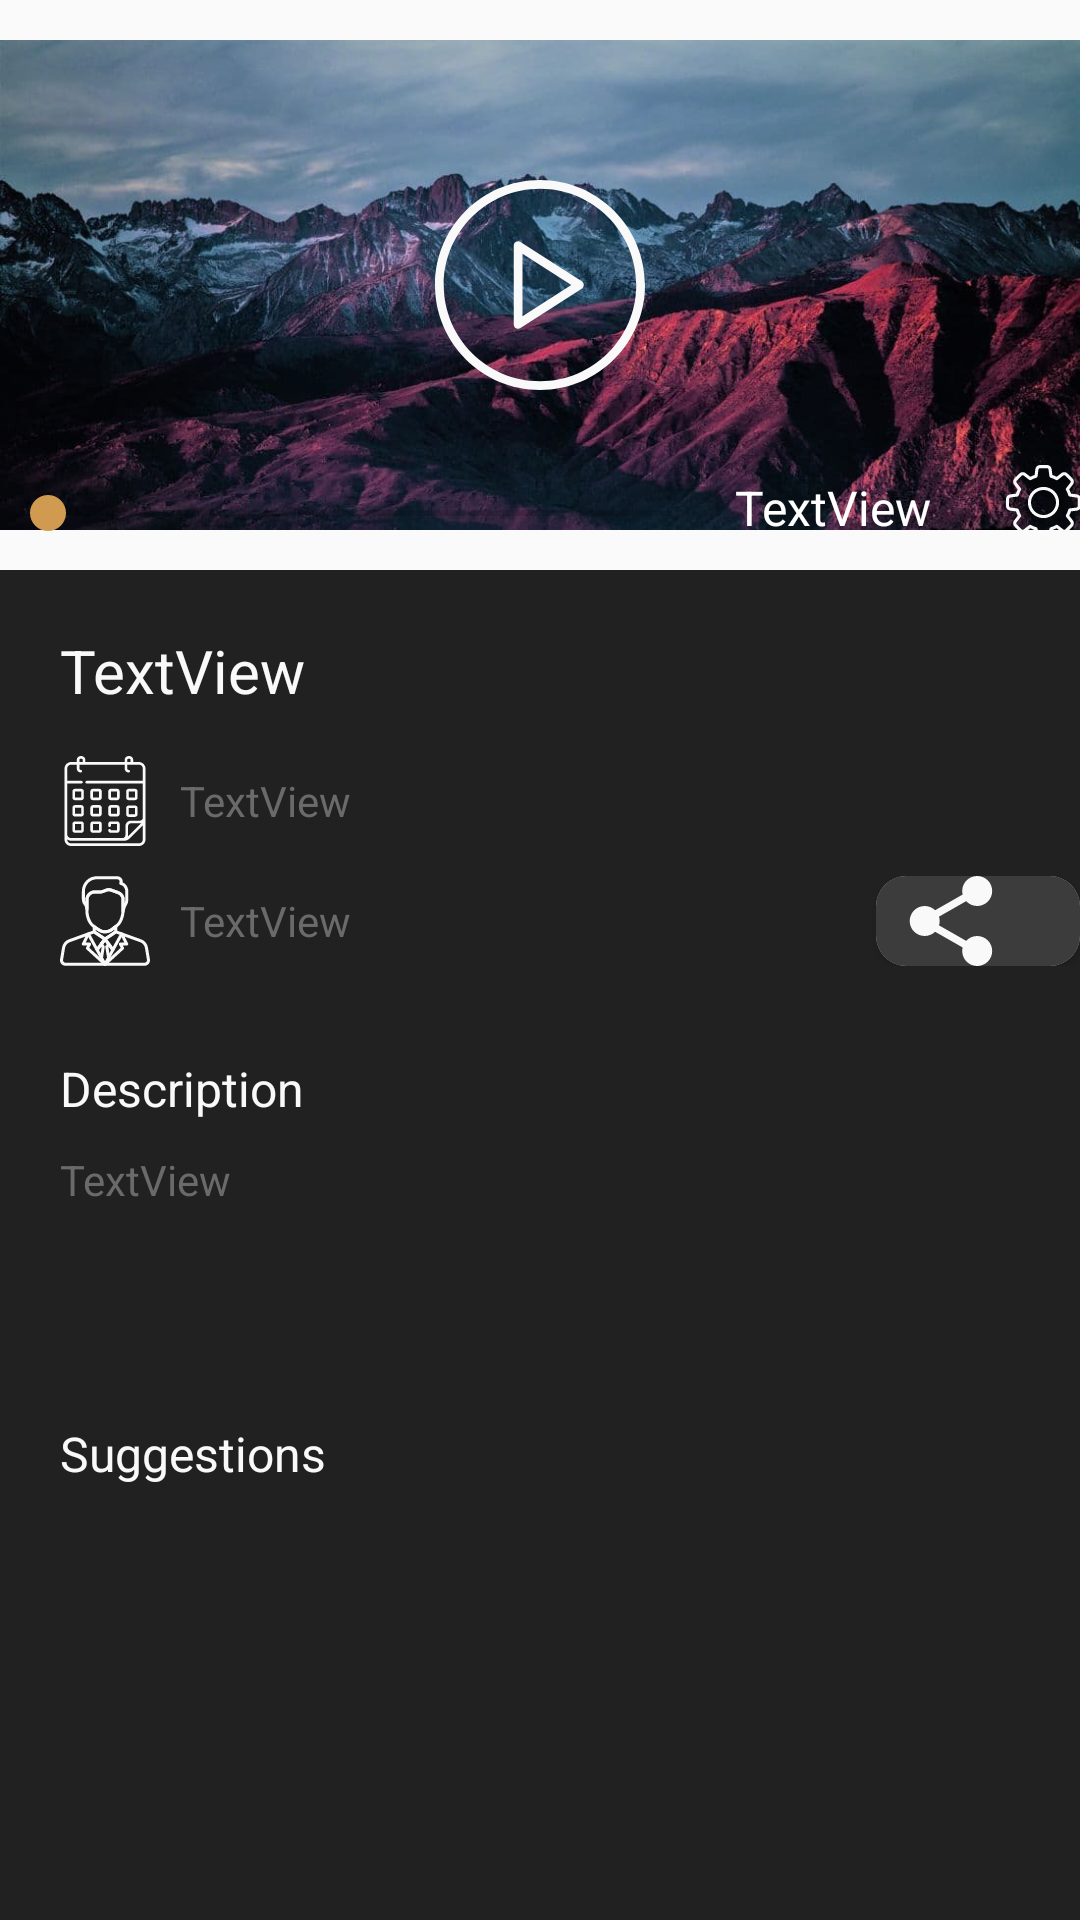

Icon click points for this 1080w x 1920h phone screenshot, format point (x, y):
calendar: point (105, 801)
manager: point (105, 921)
play: point (540, 285)
settings: point (1043, 502)
share: point (951, 921)
